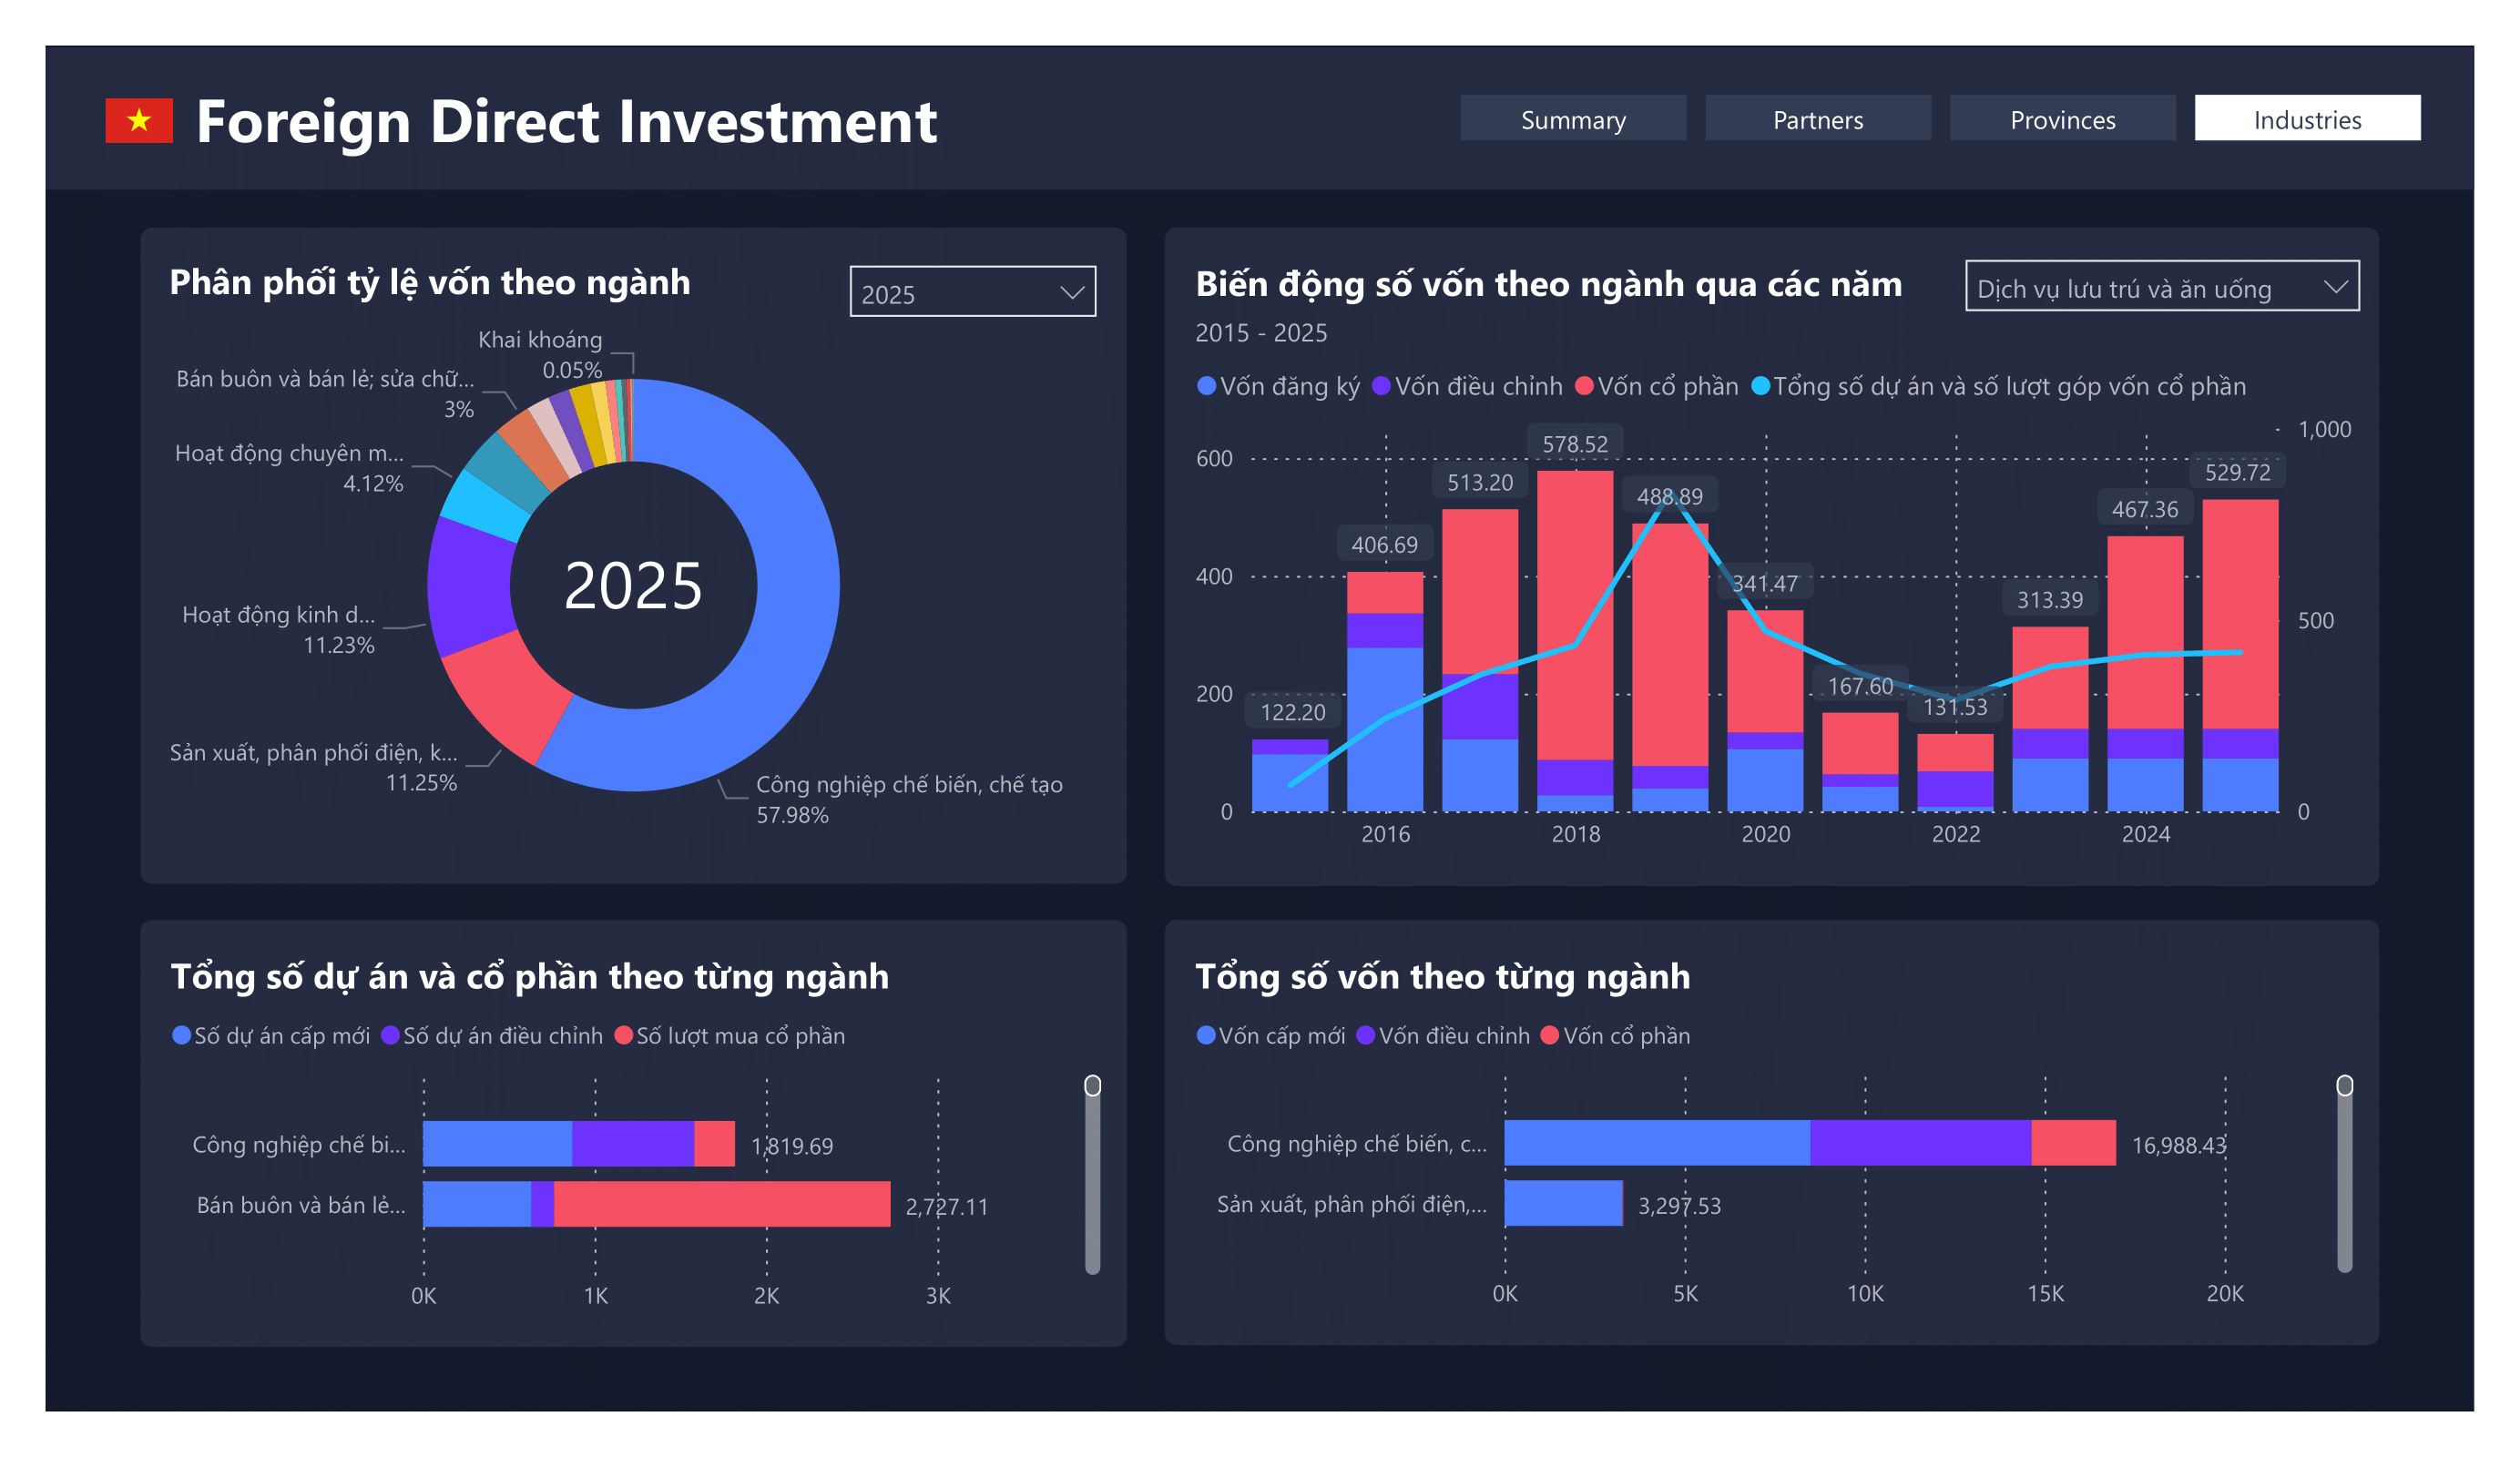

This screenshot's page, from the dashboard's own definition file:
{"tool":"powerbi","page":{"name":"Industries","canvas":[1280,720],"ordinal":3},"visuals":[{"type":"shape","box":[50,95.7,520,345.7],"z":0,"group":"g2"},{"type":"group","id":"g1","title":"Group 3","box":[590,461.4,640,224.3],"z":0},{"type":"shape","box":[0,0.8,1280,75],"z":1000},{"type":"card","fields":{"Values":["fdi_industry_vi_clean.Select_Year_of_Industry"]},"box":[50,124.3,520,317.1],"z":1000,"group":"g2"},{"type":"shape","box":[60.8,0,427.7,74.6],"z":2000},{"type":"image","box":[25.7,23.2,47.3,32.4],"z":3000},{"type":"pageNavigator","box":[746,26.2,507,24],"z":4000},{"type":"group","id":"g2","title":"Group 1","box":[50,95.7,520,347.1],"z":5000,"group":"g4"},{"type":"group","id":"g3","title":"Group 2","box":[590,95.7,640,345.7],"z":5000},{"type":"barChart","title":"Tổng số vốn theo từng ngành","fields":{"Category":["fdi_industry_vi_clean.Ngành"],"Y":["Sum(fdi_industry_vi_clean.Vốn đăng ký cấp mới (triệu USD))","Sum(fdi_industry_vi_clean.Vốn đăng ký điều chỉnh (triệu USD))","Sum(fdi_industry_vi_clean.Giá trị góp vốn, mua cổ phần (triệu USD))"]},"box":[590,461.4,640,224.3],"z":5000,"group":"g1"},{"type":"group","id":"g4","title":"Group 4","box":[50,95.7,520,347.1],"z":6000},{"type":"slicer","fields":{"Values":["fdi_industry_vi_clean.Năm"]},"box":[408.6,95.7,160,65.7],"z":6000,"group":"g4"},{"type":"lineStackedColumnComboChart","title":"Biến động số vốn theo ngành qua các năm","fields":{"Category":["fdi_industry_vi_clean.Năm"],"Y2":["fdi_industry_vi_clean.Total_Number_Industries"],"Y":["Sum(fdi_industry_vi_clean.Vốn đăng ký cấp mới (triệu USD))","Sum(fdi_industry_vi_clean.Vốn đăng ký điều chỉnh (triệu USD))","Sum(fdi_industry_vi_clean.Giá trị góp vốn, mua cổ phần (triệu USD))"]},"box":[590,95.7,640,346.7],"z":6000,"group":"g3"},{"type":"slicer","fields":{"Values":["fdi_industry_vi_clean.Ngành"]},"box":[1001.7,103.1,227.8,45.6],"z":7000,"group":"g3"},{"type":"barChart","title":"Tổng số dự án và cổ phần theo từng ngành","fields":{"Category":["fdi_industry_vi_clean.Ngành"],"Y":["Sum(fdi_industry_vi_clean.Số dự án cấp mới)","Sum(fdi_industry_vi_clean.Số lượt dự án điều chỉnh)","Sum(fdi_industry_vi_clean.Số lượt góp vốn mua cổ phần)"]},"box":[49.6,461,520.4,224.7],"z":7000},{"type":"donutChart","title":"Phân phối tỷ lệ vốn theo ngành","fields":{"Category":["fdi_industry_vi_clean.Ngành"],"Y":["fdi_industry_vi_clean.Total_Investment_Industries"]},"box":[50,95.7,520,347.1],"z":10000,"group":"g2"}]}

Visuals, with their boxes on the page's 1280x720 design canvas (x1, y1, x2, y2). These are canvas units, not pixel positions in the 2520x1457 screenshot, which may show the page scaled, cropped or inside an application window:
shape: x1=50, y1=96, x2=570, y2=441
"Group 3" group: x1=590, y1=461, x2=1230, y2=686
shape: x1=0, y1=1, x2=1280, y2=76
card - fdi_industry_vi_clean.Select_Year_of_Industry: x1=50, y1=124, x2=570, y2=441
shape: x1=61, y1=0, x2=488, y2=75
image: x1=26, y1=23, x2=73, y2=56
pageNavigator: x1=746, y1=26, x2=1253, y2=50
"Group 1" group: x1=50, y1=96, x2=570, y2=443
"Group 2" group: x1=590, y1=96, x2=1230, y2=441
"Tổng số vốn theo từng ngành" barChart: x1=590, y1=461, x2=1230, y2=686
"Group 4" group: x1=50, y1=96, x2=570, y2=443
slicer - fdi_industry_vi_clean.Năm: x1=409, y1=96, x2=569, y2=161
"Biến động số vốn theo ngành qua các năm" lineStackedColumnComboChart: x1=590, y1=96, x2=1230, y2=442
slicer - fdi_industry_vi_clean.Ngành: x1=1002, y1=103, x2=1230, y2=149
"Tổng số dự án và cổ phần theo từng ngành" barChart: x1=50, y1=461, x2=570, y2=686
"Phân phối tỷ lệ vốn theo ngành" donutChart: x1=50, y1=96, x2=570, y2=443
